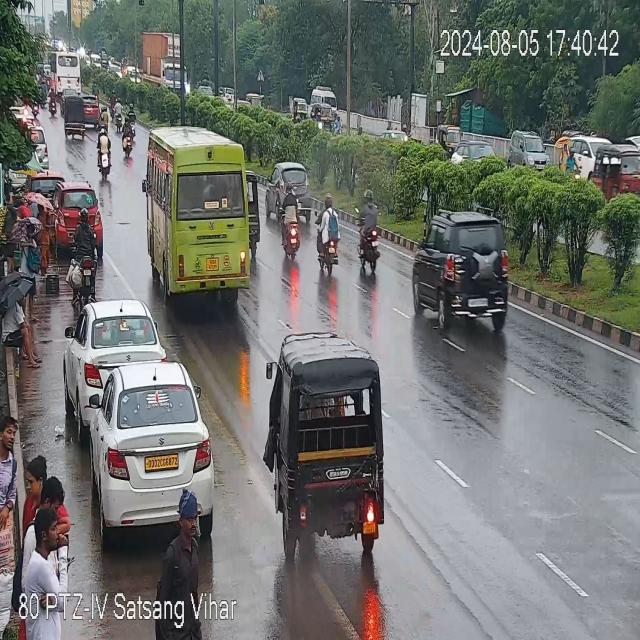2-wheelers: (71, 210, 100, 302), (353, 202, 388, 276), (315, 198, 345, 272), (276, 200, 306, 261), (96, 124, 111, 182), (122, 116, 134, 158), (49, 84, 60, 120)
auto: (266, 337, 382, 549), (413, 219, 517, 333), (596, 142, 640, 204), (62, 95, 84, 141), (438, 121, 460, 155), (315, 100, 332, 128), (294, 95, 308, 124)
bus: (150, 124, 262, 306)
car: (70, 364, 211, 530), (67, 302, 163, 394), (53, 182, 104, 240), (268, 154, 312, 217), (562, 134, 613, 184), (510, 124, 552, 174), (82, 92, 100, 131)
pedestrian: (159, 483, 210, 640), (22, 520, 70, 640), (0, 270, 44, 368), (31, 465, 72, 569), (0, 409, 29, 531), (33, 201, 54, 279), (128, 102, 138, 138), (115, 99, 122, 135), (110, 90, 116, 118)
truck: (142, 32, 192, 92), (48, 48, 82, 100)
